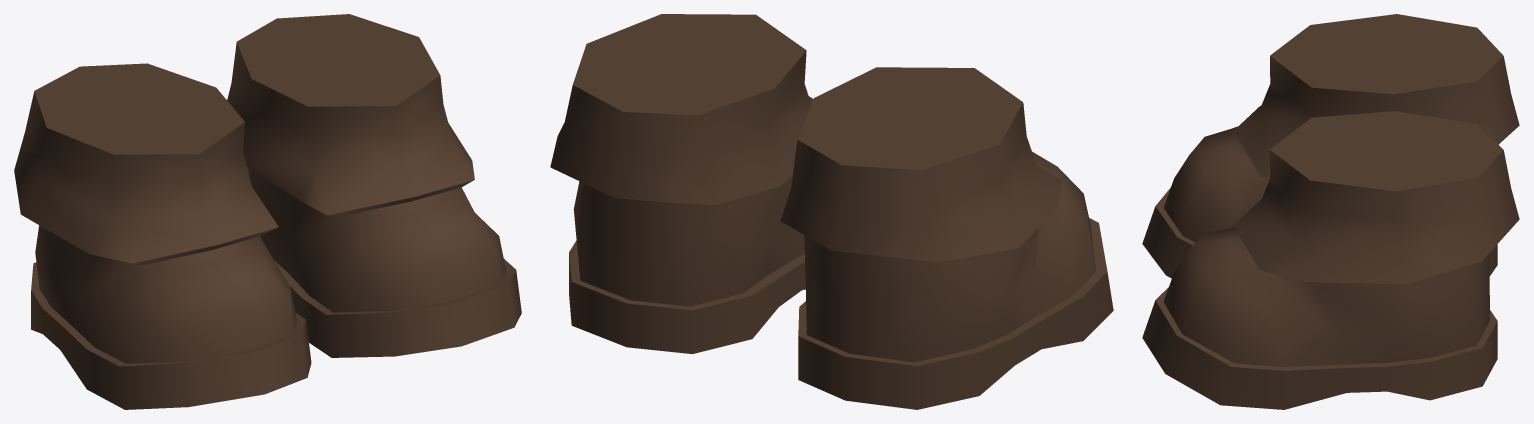
Rendered from Shoes_4.fbx.
3 renders of one model, left to right at view 1: azimuth 30°, elevation 25°; view 2: azimuth 150°, elevation 25°; view 3: azimuth 270°, elevation 25°, orthographic. The views are drawn at different scales.
Parts seen in each view (by area): view 1: Shoes_4; view 2: Shoes_4; view 3: Shoes_4.
Part boxes in pixels (box(x1,y1,x2,y2)): Shoes_4: box(14, 14, 521, 409); Shoes_4: box(550, 14, 1113, 409); Shoes_4: box(1142, 14, 1519, 409).
Size of the model in its own units: 43.68 by 21.62 by 35.2.
